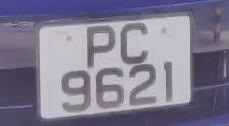1: (158, 58, 180, 108)
2: (124, 61, 161, 110)
6: (90, 63, 127, 112)
9: (57, 66, 95, 115)
C: (115, 18, 152, 67)
P: (83, 23, 119, 71)
